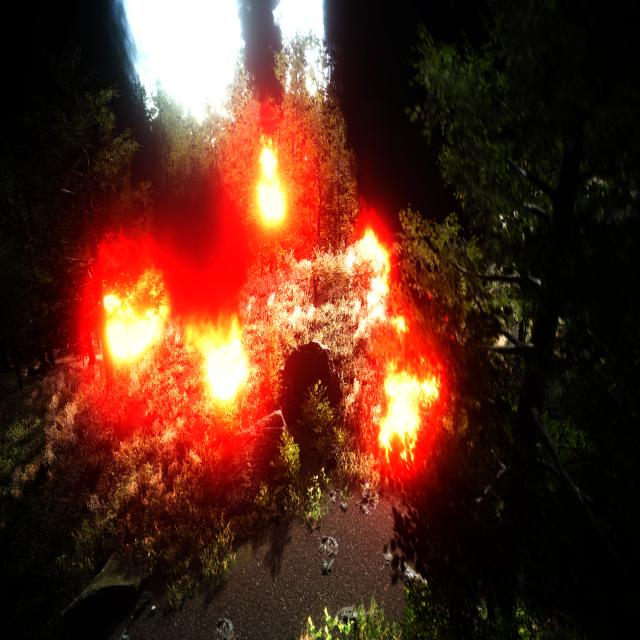Human: (310, 272, 322, 318)
